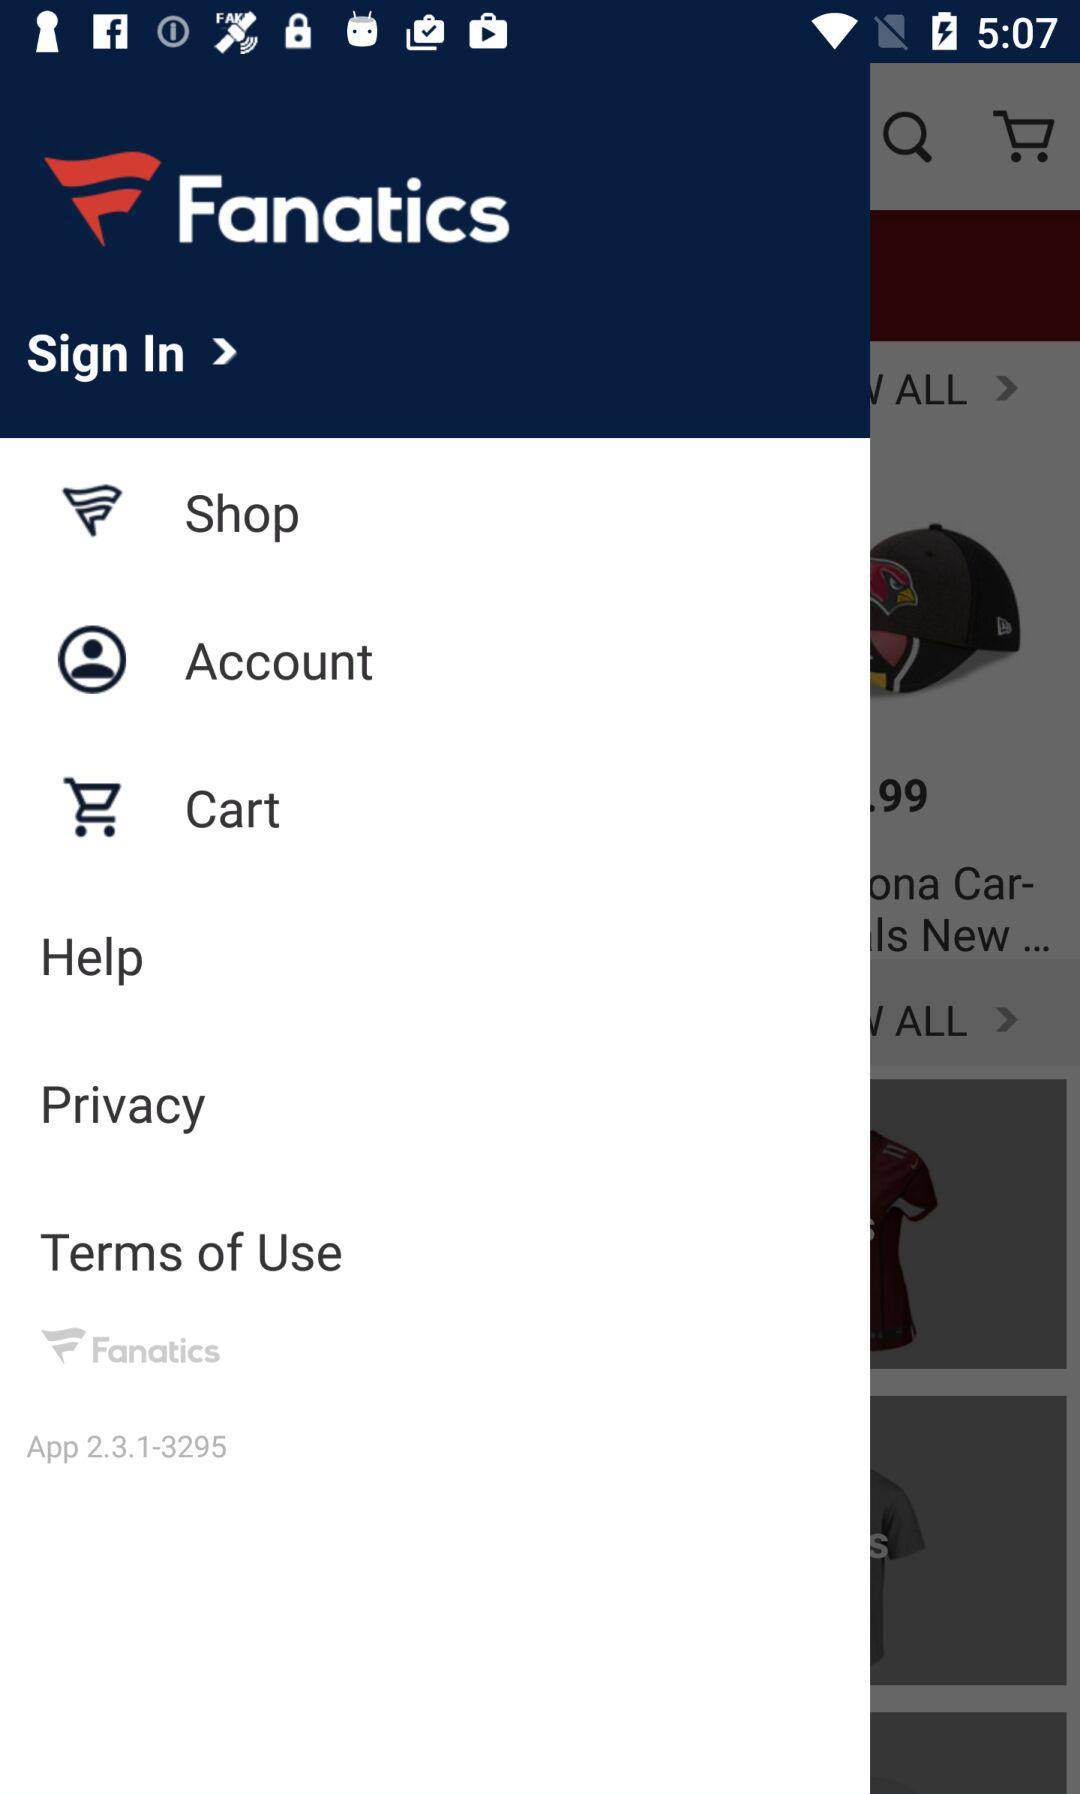Drawer: (1, 67, 871, 1794)
Icon: (58, 624, 128, 696), (63, 777, 123, 839), (213, 337, 240, 368)
Image: (42, 150, 163, 249), (63, 484, 124, 539), (41, 1328, 88, 1366)
Text: (177, 173, 512, 247), (41, 1230, 343, 1274), (26, 331, 186, 384), (44, 1084, 208, 1135), (184, 642, 375, 683), (26, 1433, 231, 1466), (184, 492, 301, 547), (42, 935, 143, 988), (92, 1334, 222, 1367), (184, 789, 282, 830)
UpperTaskBar: (1, 1, 1080, 64)
